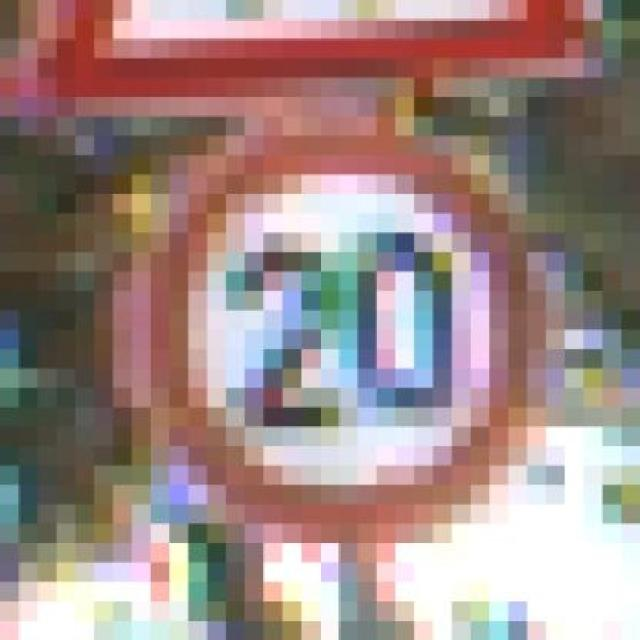forb_speed_over_20: (173, 135, 521, 522)
